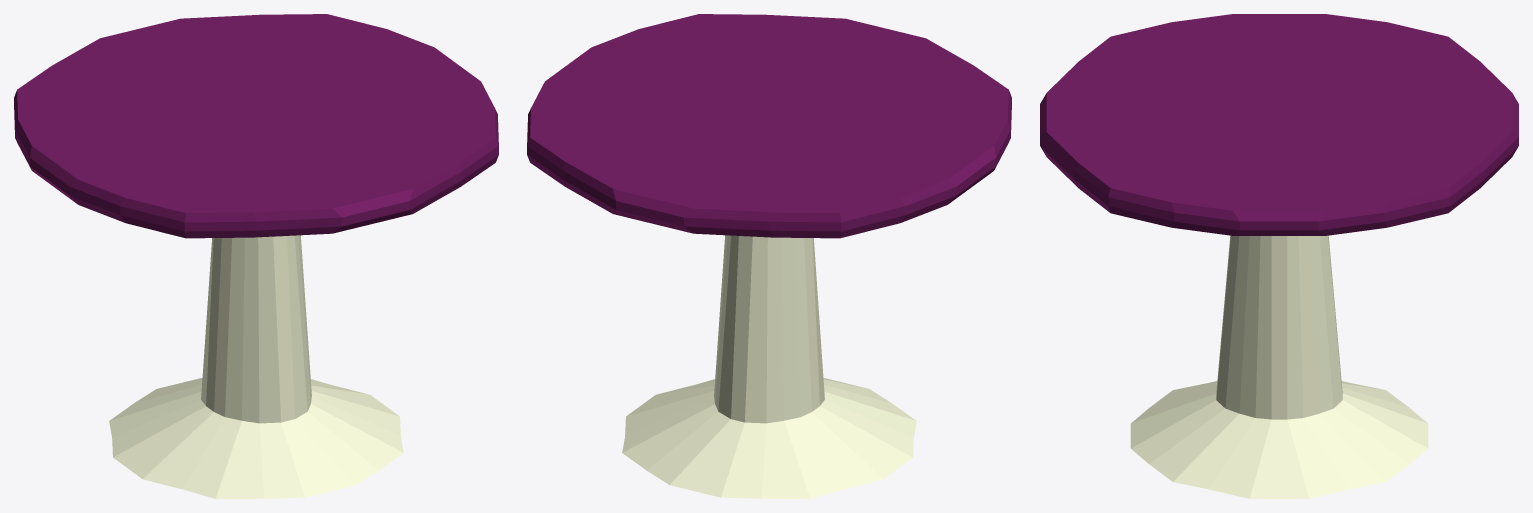
The model's file is table.fbx.
3 renders of one model, left to right at view 1: azimuth 30°, elevation 25°; view 2: azimuth 150°, elevation 25°; view 3: azimuth 270°, elevation 25°, orthographic.
Parts seen in each view (by area): view 1: Cube; view 2: Cube; view 3: Cube.
Part boxes in pixels (left/top/right/bottom): Cube: left=14, top=14, right=498, bottom=498; Cube: left=527, top=14, right=1011, bottom=498; Cube: left=1040, top=14, right=1518, bottom=498.
Size of the model in its own units: 133 by 99.22 by 133.
